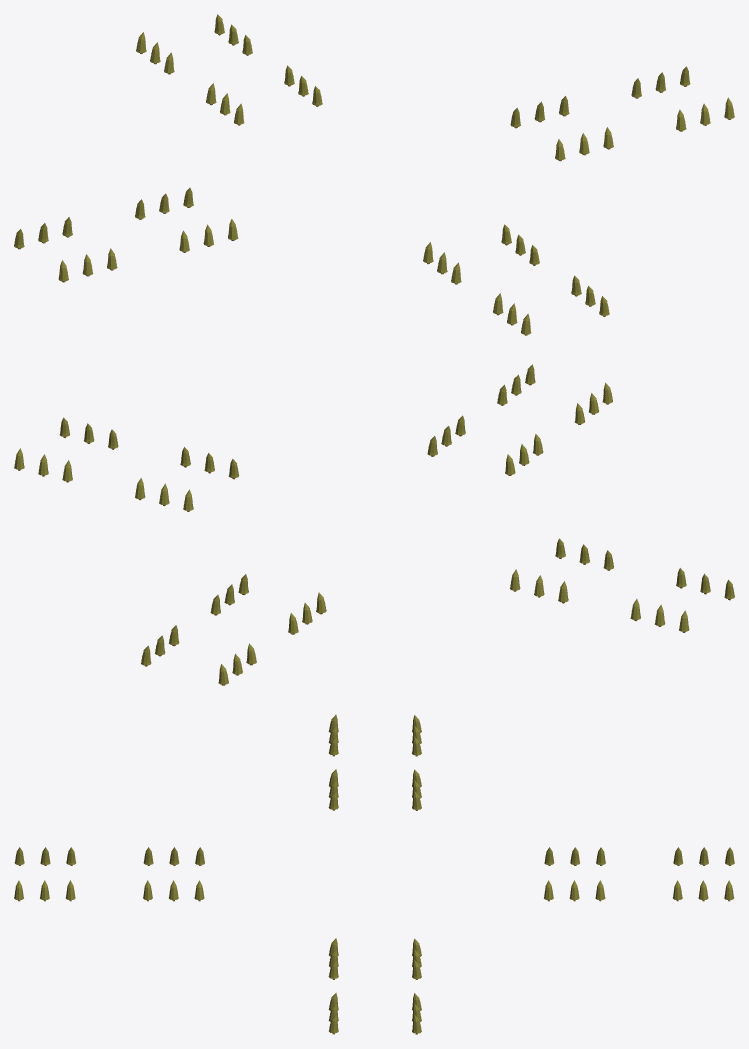
File: allfern.glb
3 views of the same model, one above another, from view 1: azimuth 30°, elevation 25°; view 2: azimuth 150°, elevation 25°; view 3: azimuth 270°, elevation 25° (orthographic). The views are drawn at different scales.
Parts seen in each view (by area): view 1: Object_18.004; view 2: Object_18.004; view 3: Object_18.004.
Boxes of the visible parts, x1=… form: Object_18.004: x1=14, y1=14, x2=734, y2=335; Object_18.004: x1=14, y1=364, x2=734, y2=685; Object_18.004: x1=14, y1=714, x2=734, y2=1034.
Bounding box in the file's own units: 5.98 × 0.1798 × 5.99.
